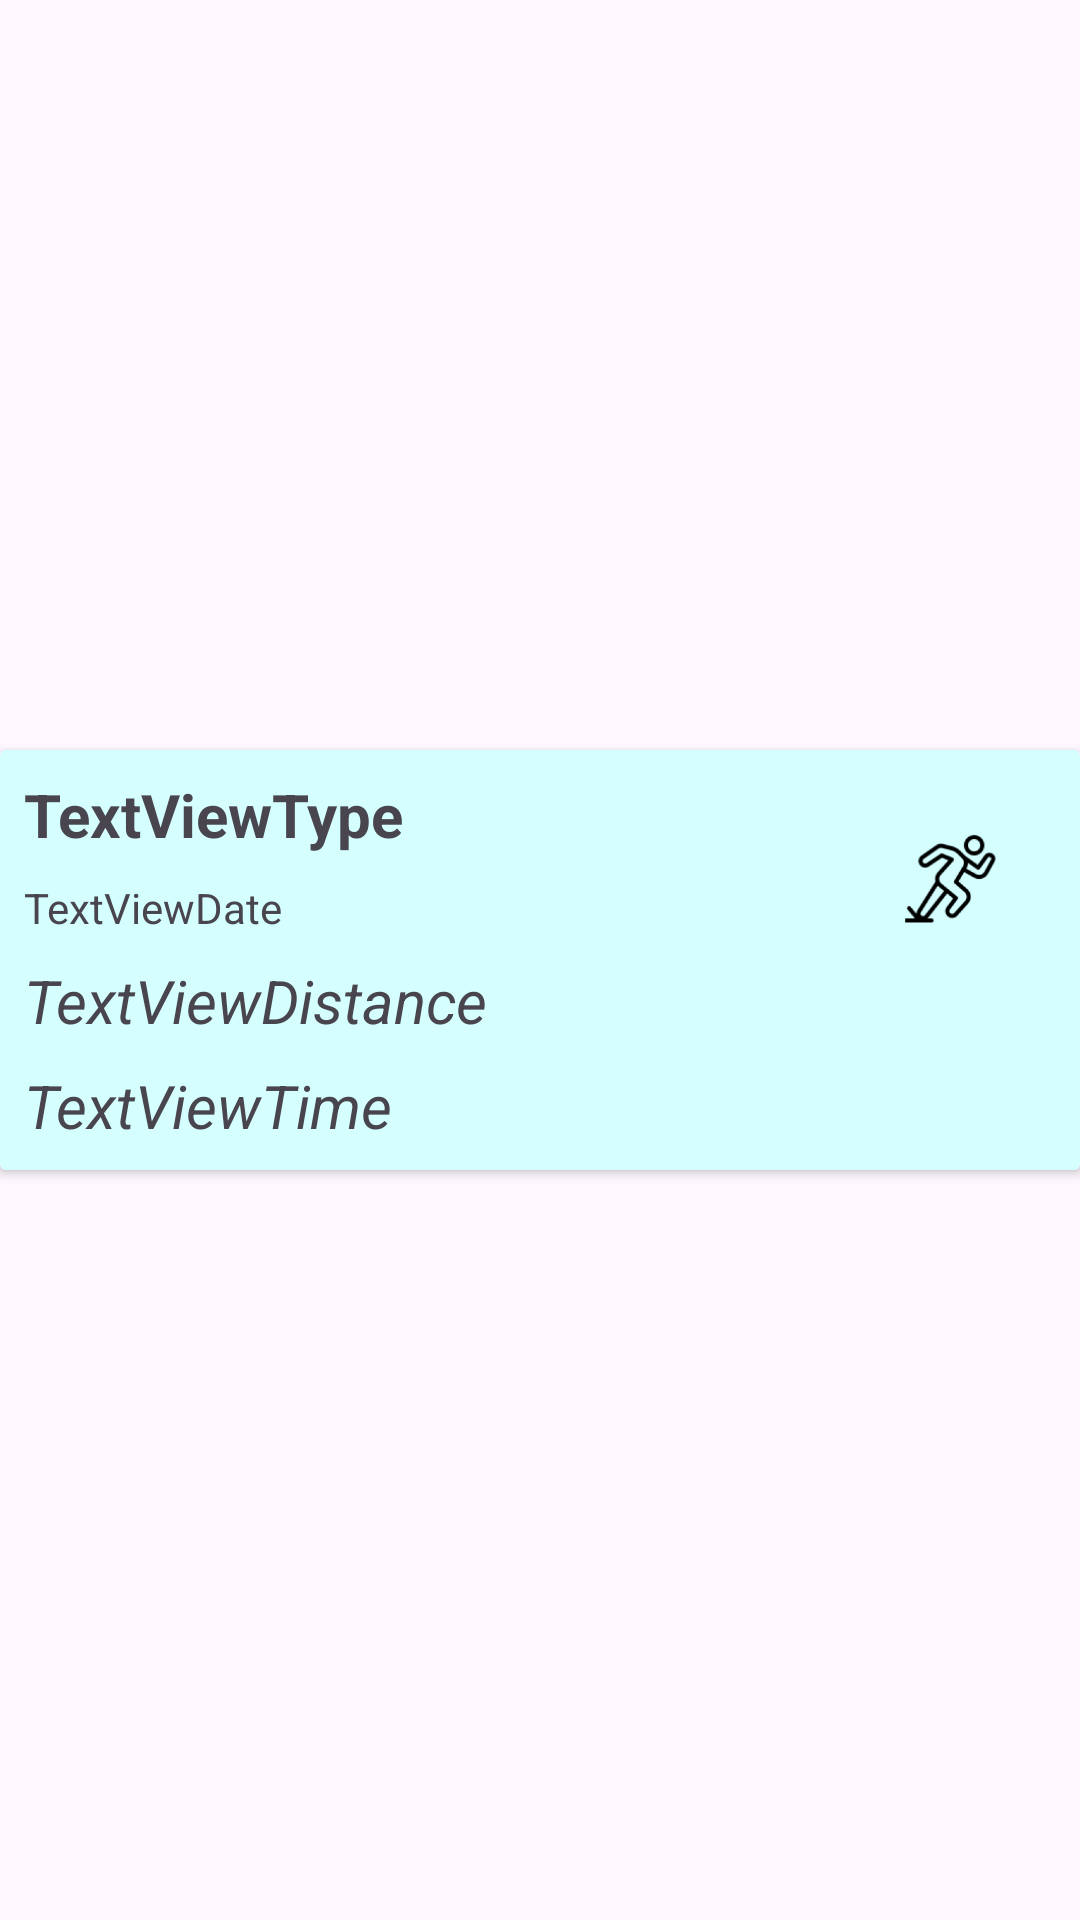

Screen size 1080×1920. Icon name, then its center in pixels as point (x, y):
running: point (950, 879)
